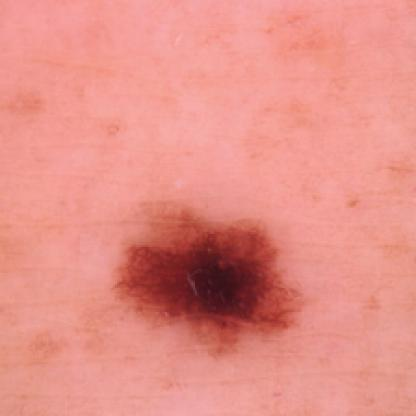benign: (126, 204, 318, 344)
